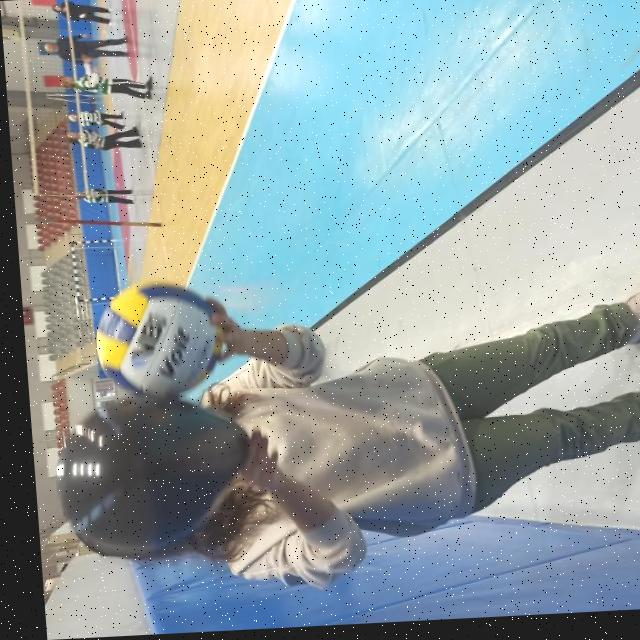balloon: (44, 388, 250, 556)
